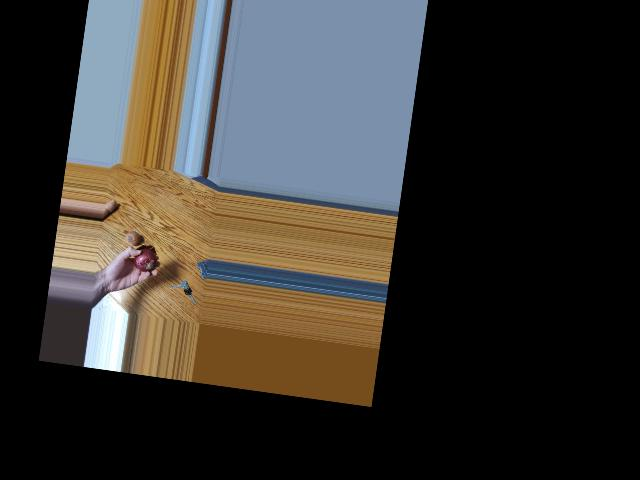onion: (133, 248, 158, 273)
